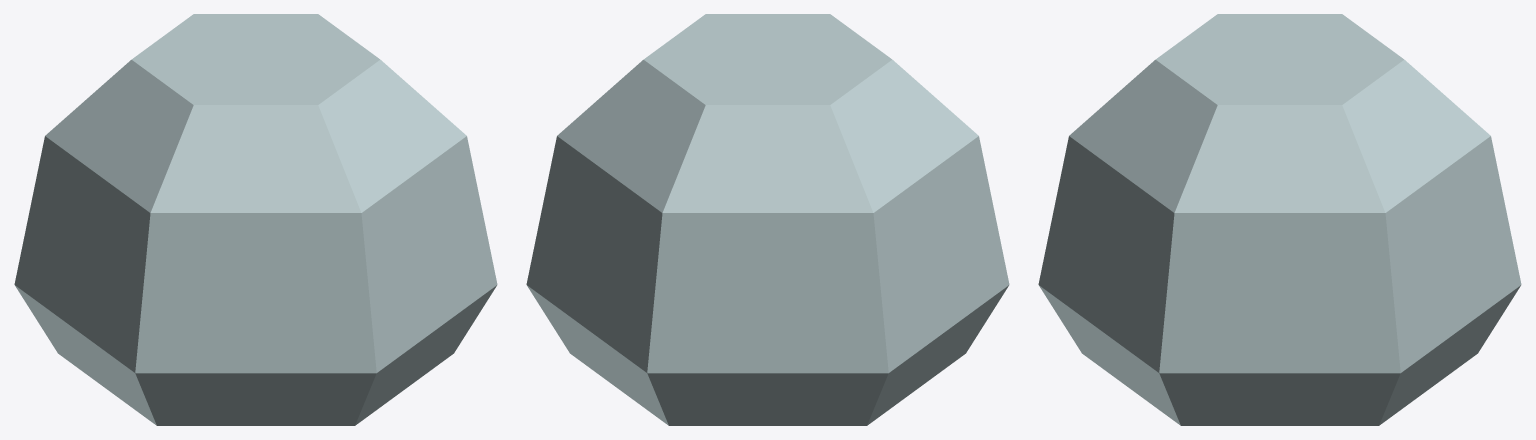
Rendered from stone_smallI.glb.
The picture shows the model from 3 angles, left to right: view 1: azimuth 30°, elevation 25°; view 2: azimuth 150°, elevation 25°; view 3: azimuth 270°, elevation 25°; orthographic projection.
Visible parts, largest first — view 1: stone_smallI; view 2: stone_smallI; view 3: stone_smallI.
Part boxes in pixels (box(x1,y1,x2,y2)): stone_smallI: box(14, 14, 497, 425); stone_smallI: box(526, 14, 1009, 425); stone_smallI: box(1038, 14, 1521, 425).
Bounding box in the file's own units: 0.3583 × 0.2778 × 0.4138.
